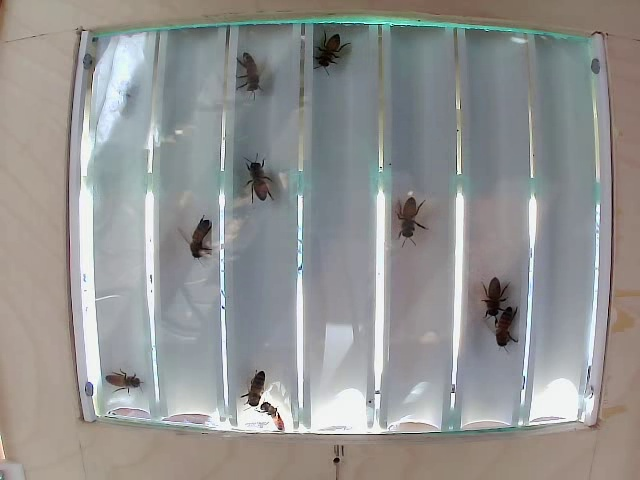bee: (178, 198, 224, 273), (234, 155, 287, 220), (230, 47, 269, 108), (307, 24, 353, 67), (394, 186, 423, 243), (487, 301, 515, 346), (472, 276, 496, 321)
